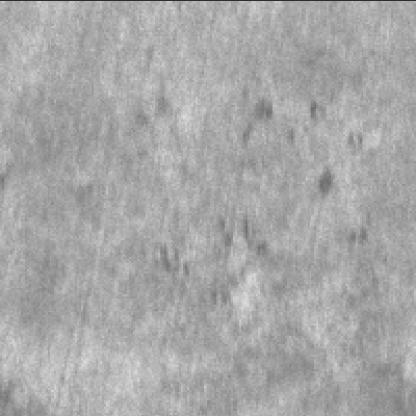rolled-in_scale: (152, 198, 285, 324), (240, 86, 375, 202)
